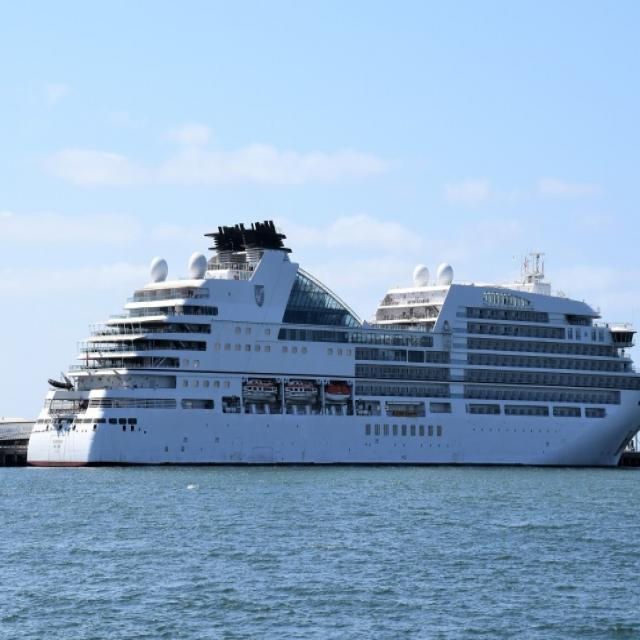cruises: (20, 214, 640, 478)
